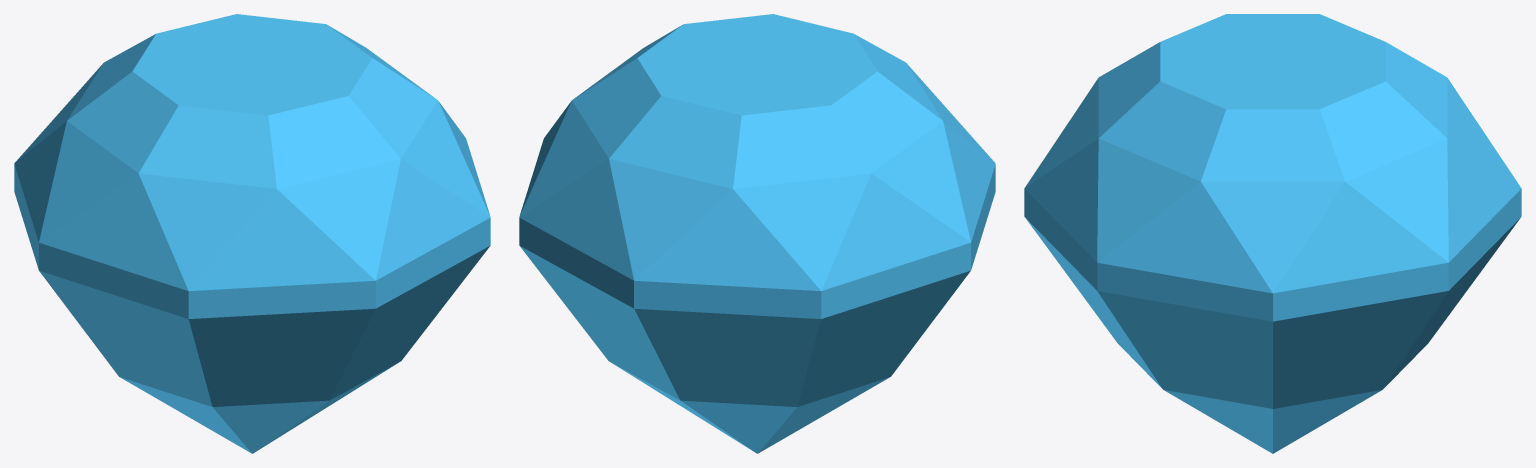
Rendered from SandGem.obj.
3 views of the same model, side by side, from view 1: azimuth 30°, elevation 25°; view 2: azimuth 150°, elevation 25°; view 3: azimuth 270°, elevation 25° (orthographic).
Parts seen in each view (by area): view 1: Gem; view 2: Gem; view 3: Gem.
Part boxes in pixels (left/top/right/bottom): Gem: left=14, top=14, right=490, bottom=453; Gem: left=519, top=14, right=995, bottom=453; Gem: left=1024, top=14, right=1521, bottom=453.
Bounding box in the file's own units: 2.24 × 1.95 × 2.24.
